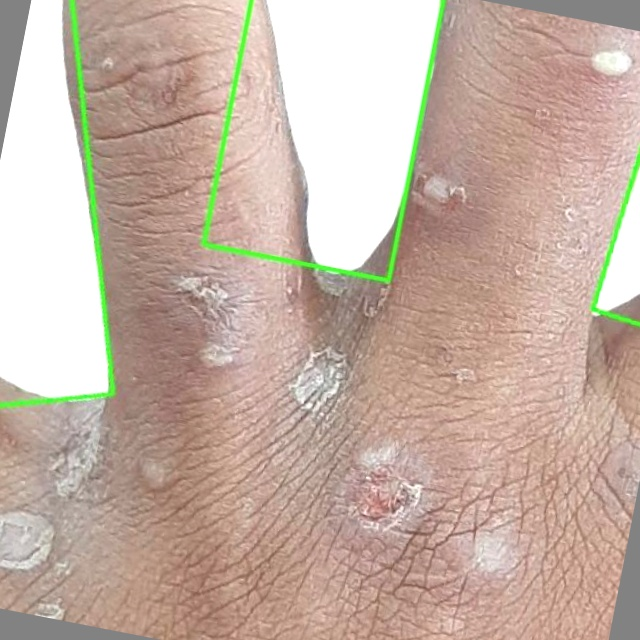Scabies: (0, 0, 173, 430), (203, 0, 443, 280)
